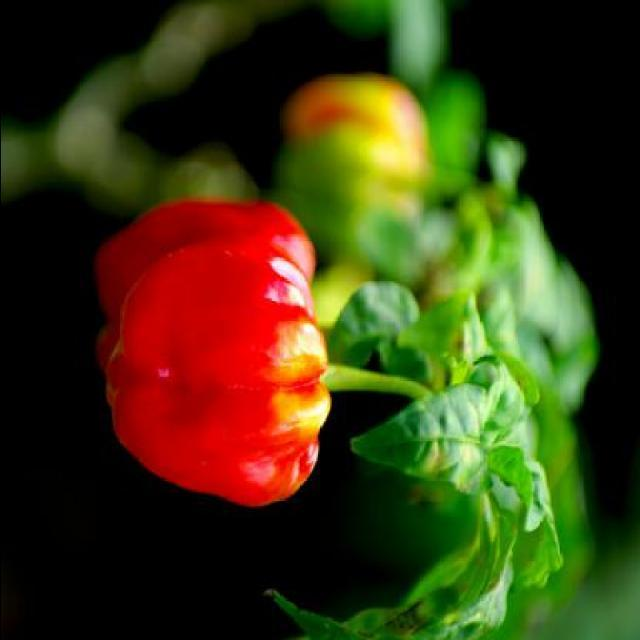Bell pepper: (93, 183, 427, 511)
